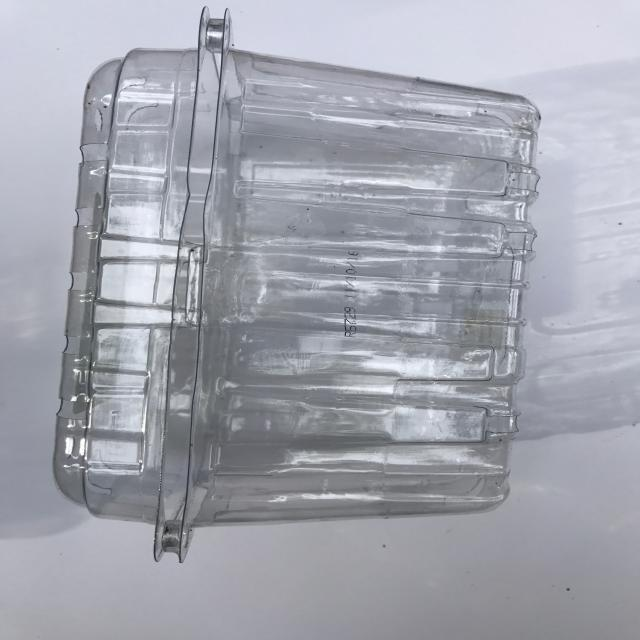plastic: (60, 4, 528, 570)
